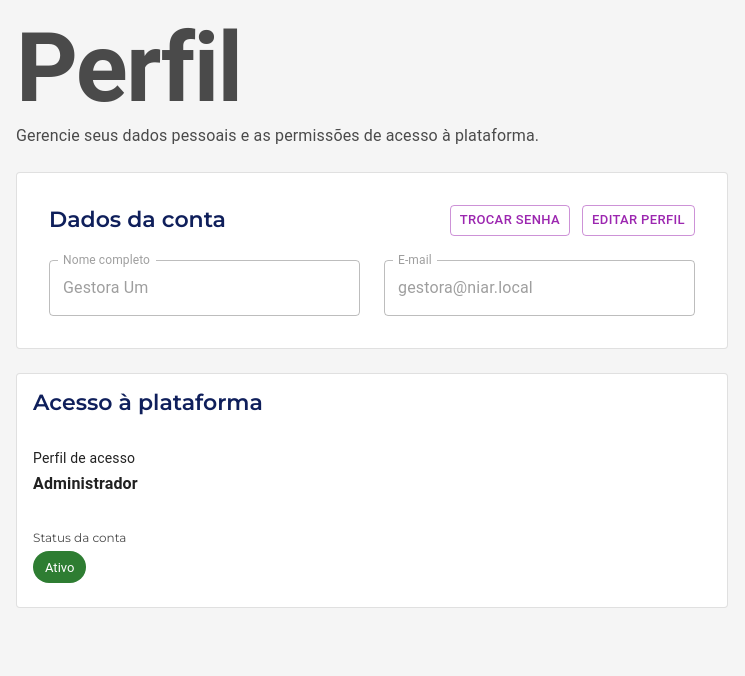
Test: Perfil — edição, senha e download › entra em modo de edição e troca o título da página
Click the button "Editar perfil". click: (638, 220)
box: [582,205,695,236]
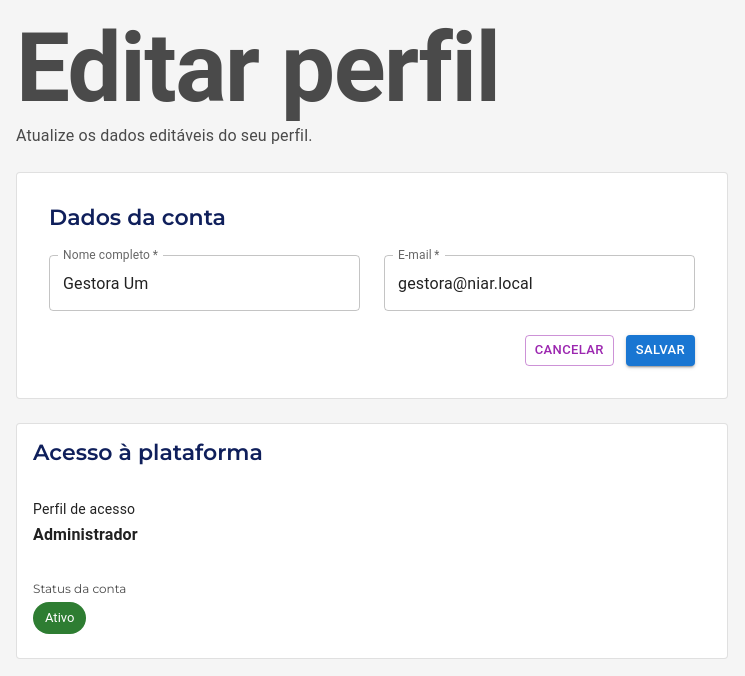
Expected: the heading "Editar perfil" is shown, [16,12,499,124]
Expected: the field labelled "Nome completo" is enabled, [49,255,360,311]
Expected: the button "Salvar" is shown, [626,335,695,366]
